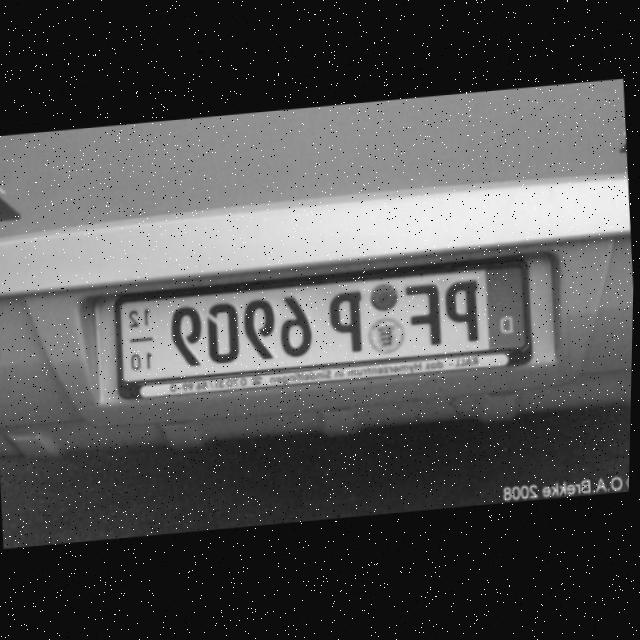license-plates: (116, 262, 529, 398)
